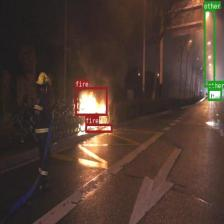fire: (75, 87, 107, 115), (85, 123, 112, 132)
